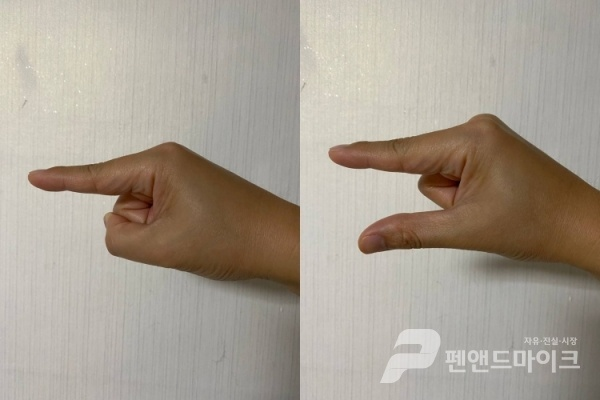megal: (325, 104, 600, 281)
